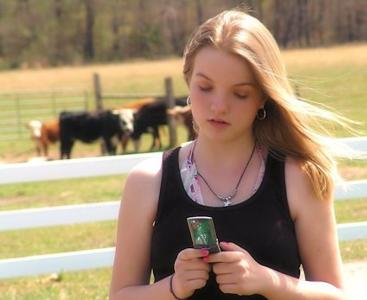person: (111, 11, 348, 300)
